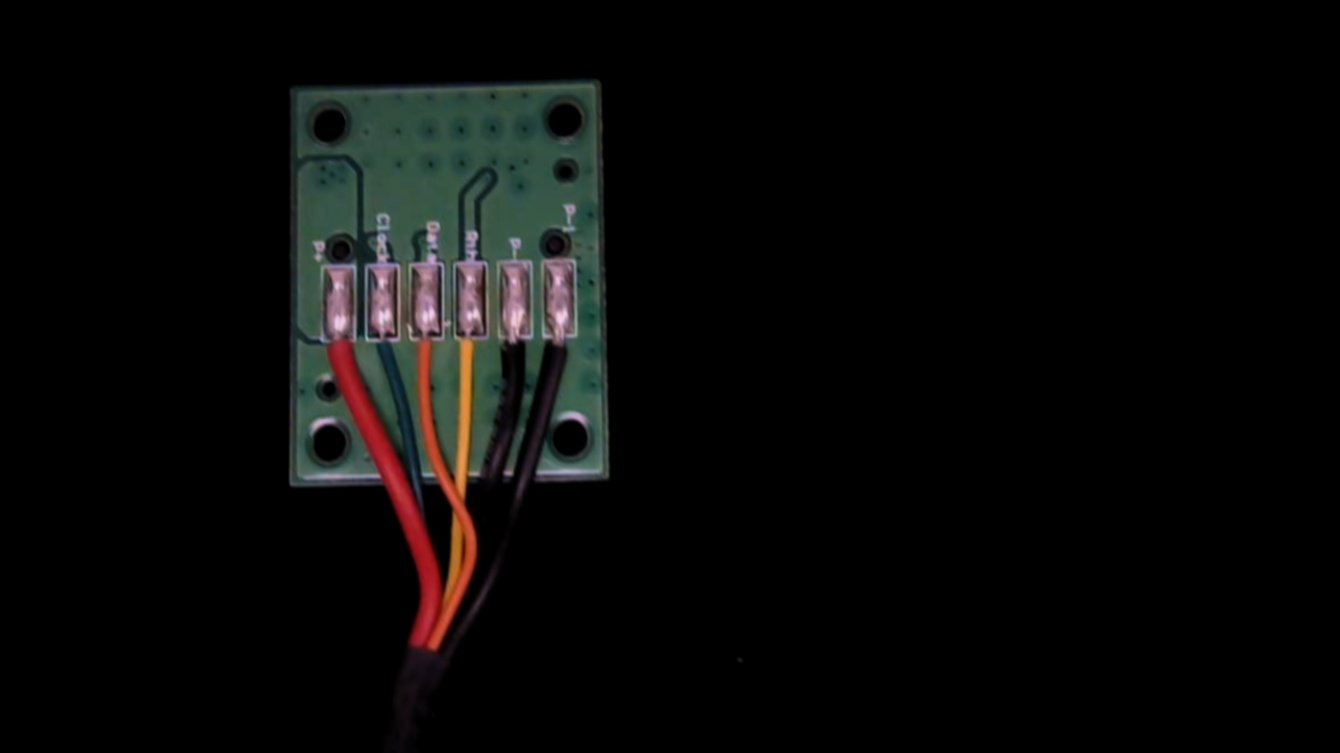Black: (494, 320, 531, 407)
Black1: (539, 320, 577, 400)
Green: (364, 324, 402, 393)
Orange: (406, 321, 443, 395)
Red: (319, 322, 358, 399)
Yellow: (450, 320, 486, 401)
